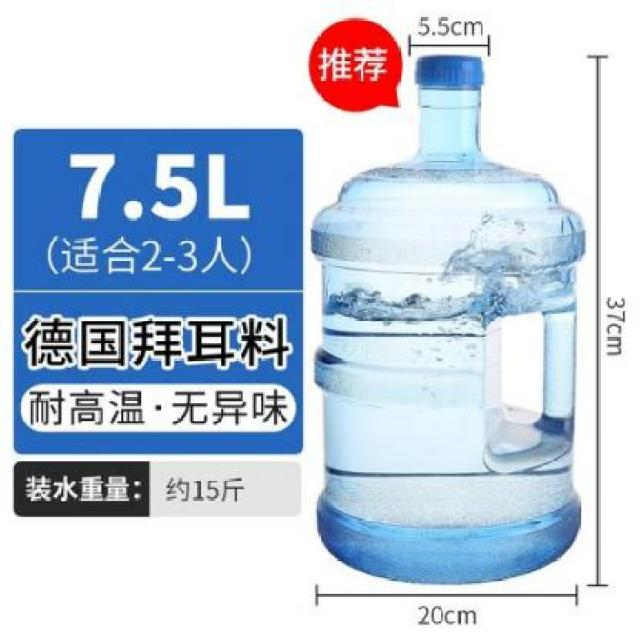coolerbottle: (314, 49, 594, 589)
